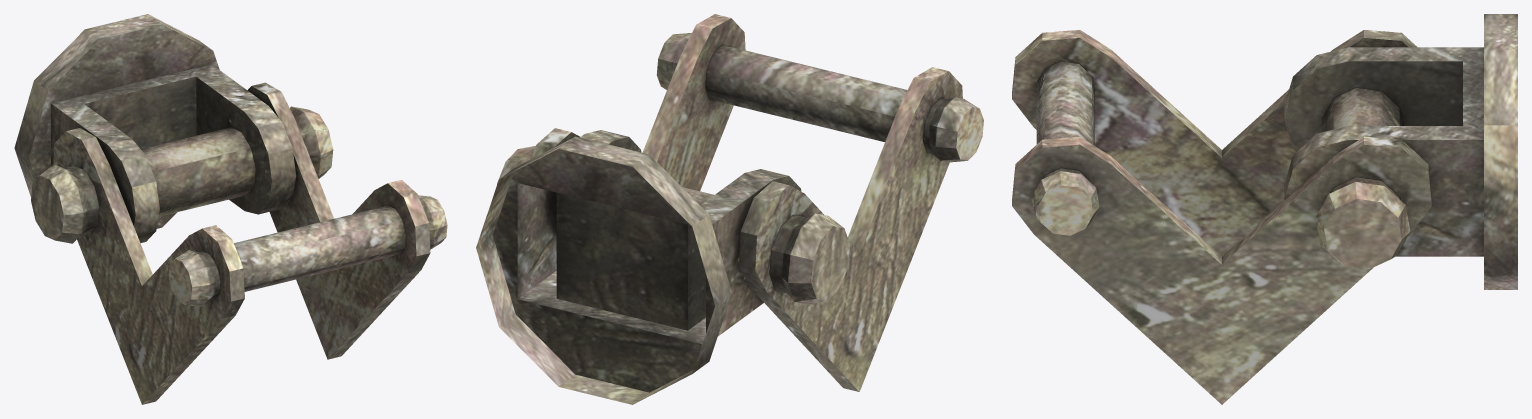
File: pinces.fbx
3 renders of one model, left to right at view 1: azimuth 30°, elevation 25°; view 2: azimuth 150°, elevation 25°; view 3: azimuth 270°, elevation 25°, orthographic. The views are drawn at different scales.
Parts seen in each view (by area): view 1: pasted__polySurface48; view 2: pasted__polySurface48; view 3: pasted__polySurface48.
Boxes of the visible parts, box(x1,y1,x2,y2) form: pasted__polySurface48: box(14, 14, 447, 404); pasted__polySurface48: box(476, 14, 983, 404); pasted__polySurface48: box(1012, 14, 1517, 404).
Size of the model in its own units: 0.797 by 0.7555 by 1.1.
